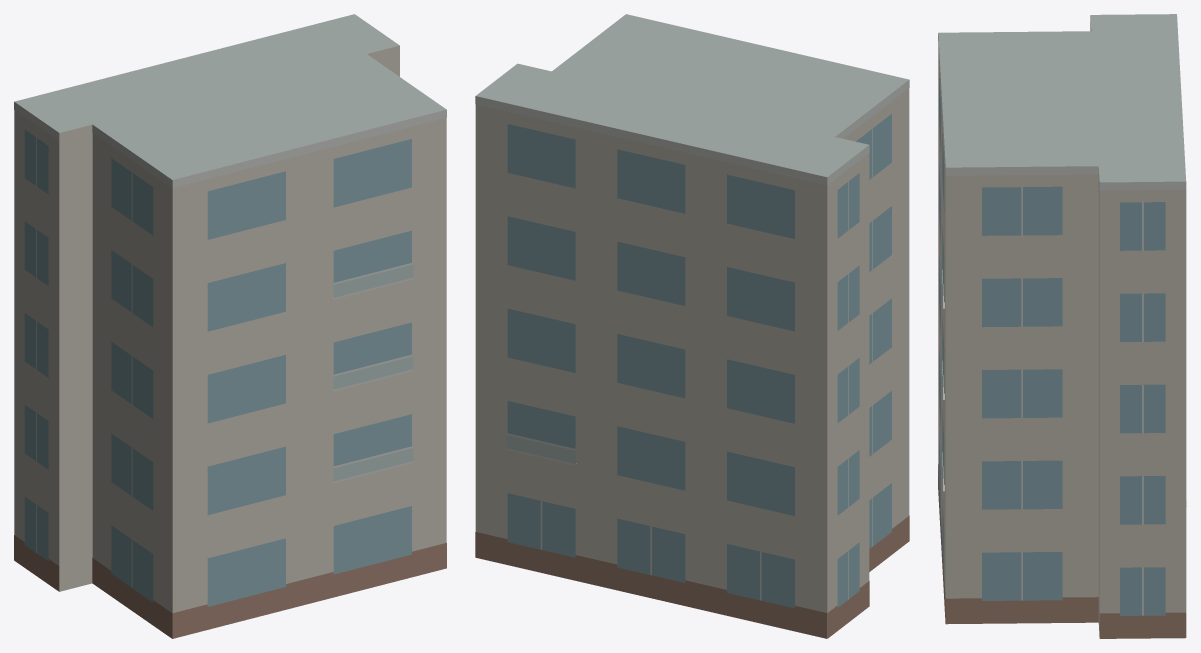
The model's file is survey-upis-32555789.glb.
The picture shows the model from 3 angles, left to right: view 1: azimuth 30°, elevation 25°; view 2: azimuth 150°, elevation 25°; view 3: azimuth 270°, elevation 25°; orthographic projection.
Parts seen in each view (by area): view 1: survey-upis-32555789.tmp; view 2: survey-upis-32555789.tmp; view 3: survey-upis-32555789.tmp.
Boxes of the visible parts, x1=… form: survey-upis-32555789.tmp: x1=14, y1=14, x2=446, y2=638; survey-upis-32555789.tmp: x1=475, y1=14, x2=909, y2=638; survey-upis-32555789.tmp: x1=938, y1=14, x2=1186, y2=638.
Size of the model in its own units: 10.85 by 13.7 by 6.77.
